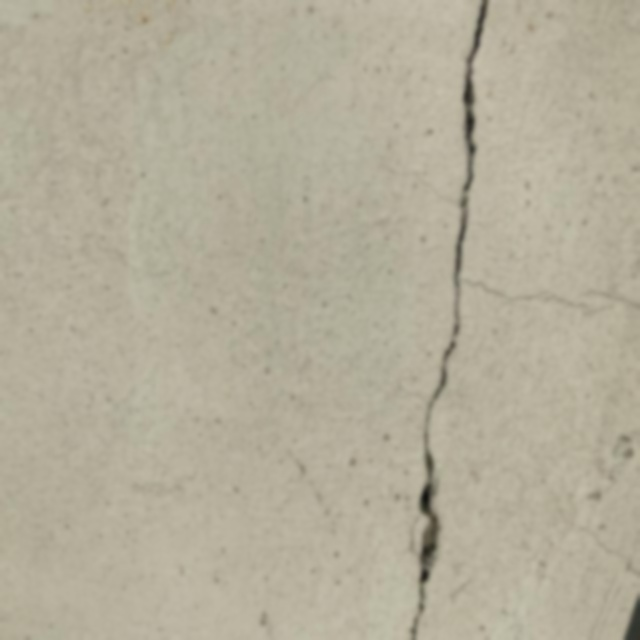SurfaceCrack: (370, 0, 535, 640)
